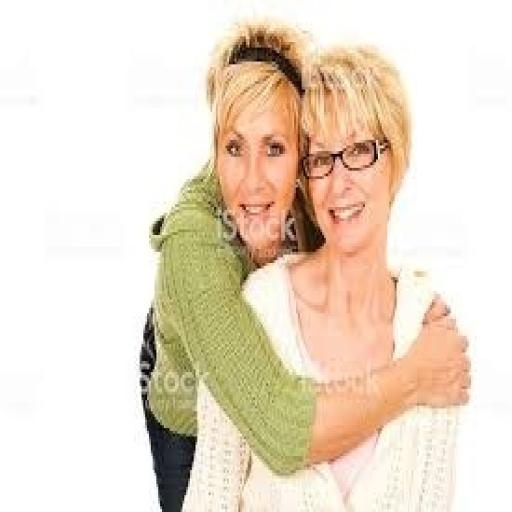hugging: (140, 20, 471, 509)
